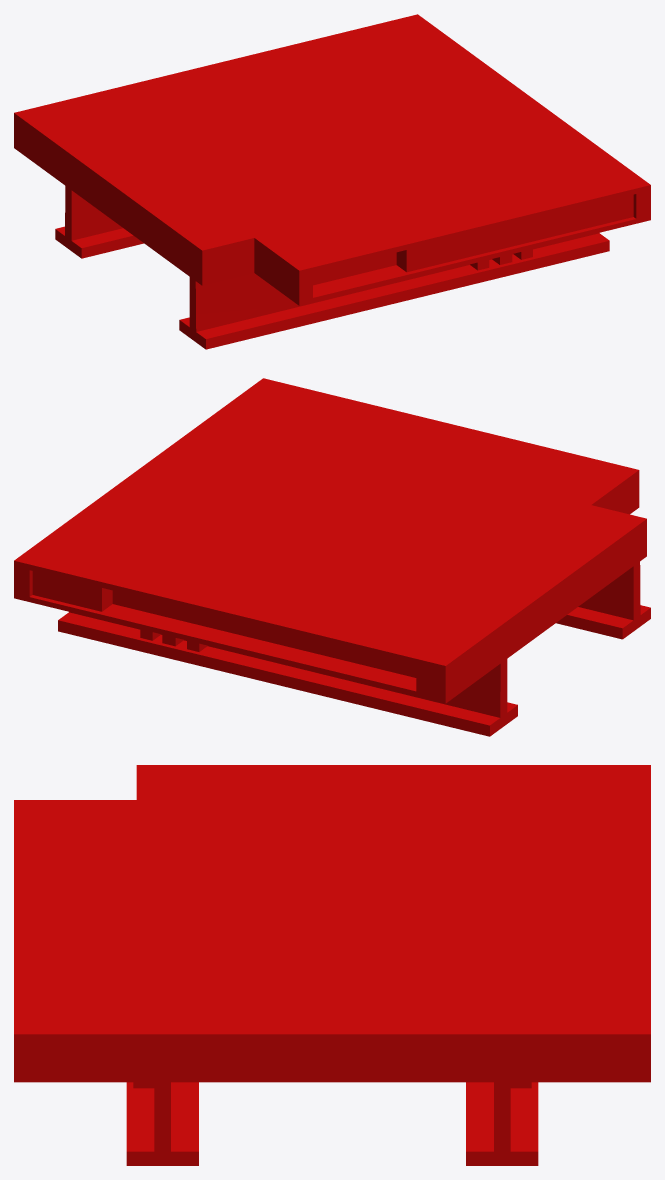
The picture shows the model from 3 angles, top to bottom: view 1: azimuth 30°, elevation 25°; view 2: azimuth 150°, elevation 25°; view 3: azimuth 270°, elevation 25°; orthographic projection. The views are drawn at different scales.
Parts seen in each view (by area): view 1: Mesh; view 2: Mesh; view 3: Mesh.
Boxes of the visible parts, x1,y1,x2,y2 form: Mesh: [14, 14, 650, 349]; Mesh: [14, 378, 650, 736]; Mesh: [14, 765, 650, 1165].
Size of the model in its own units: 3 by 0.6839 by 3.
